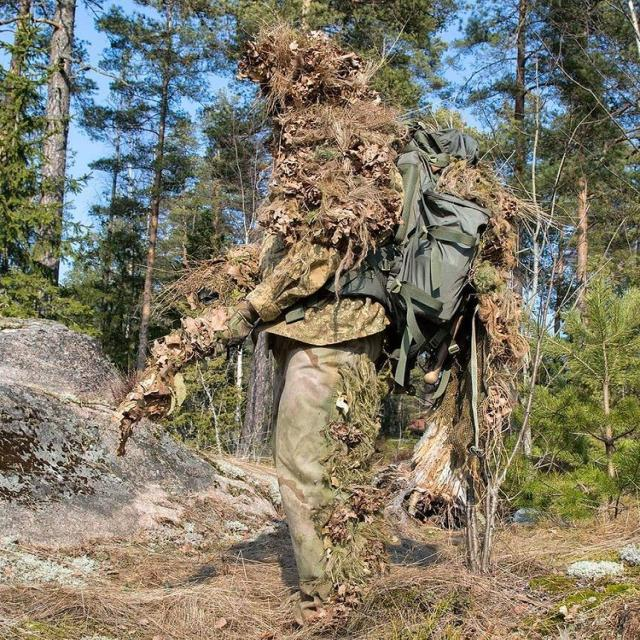Camouflage: (116, 19, 528, 611)
